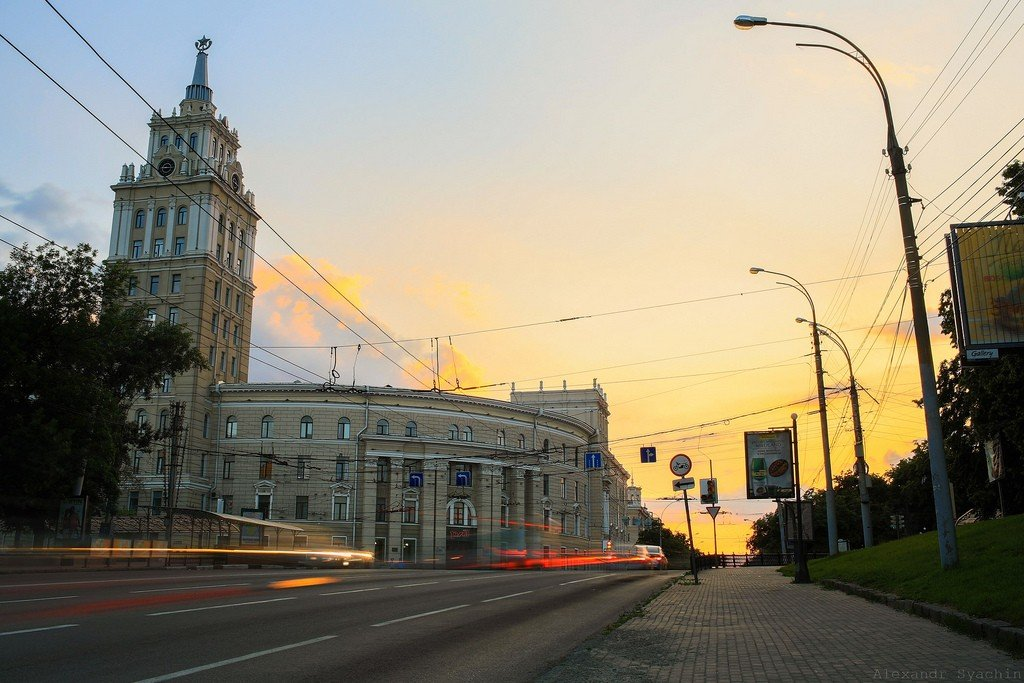sign: (669, 451, 693, 476), (583, 450, 604, 470), (638, 445, 660, 464), (672, 476, 696, 493), (407, 469, 425, 489), (704, 504, 723, 522), (455, 470, 473, 488)
